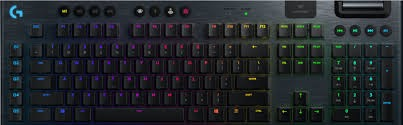keyboard: (0, 0, 397, 125)
